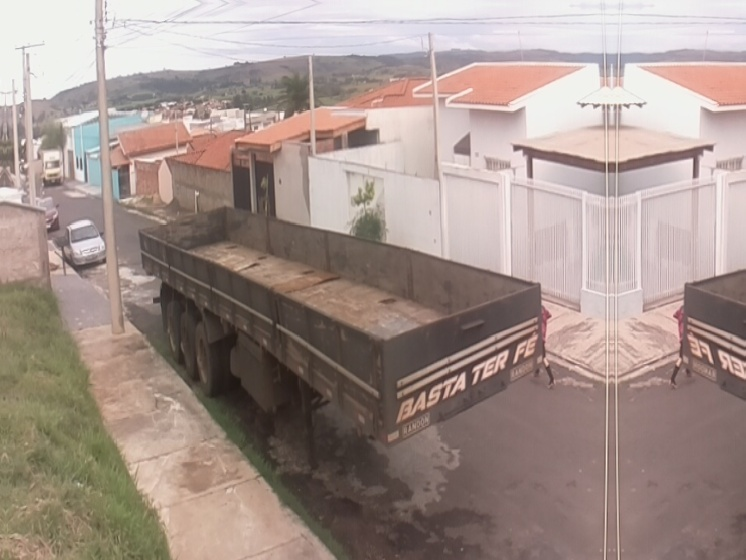person: (669, 303, 694, 387), (533, 305, 554, 388)
